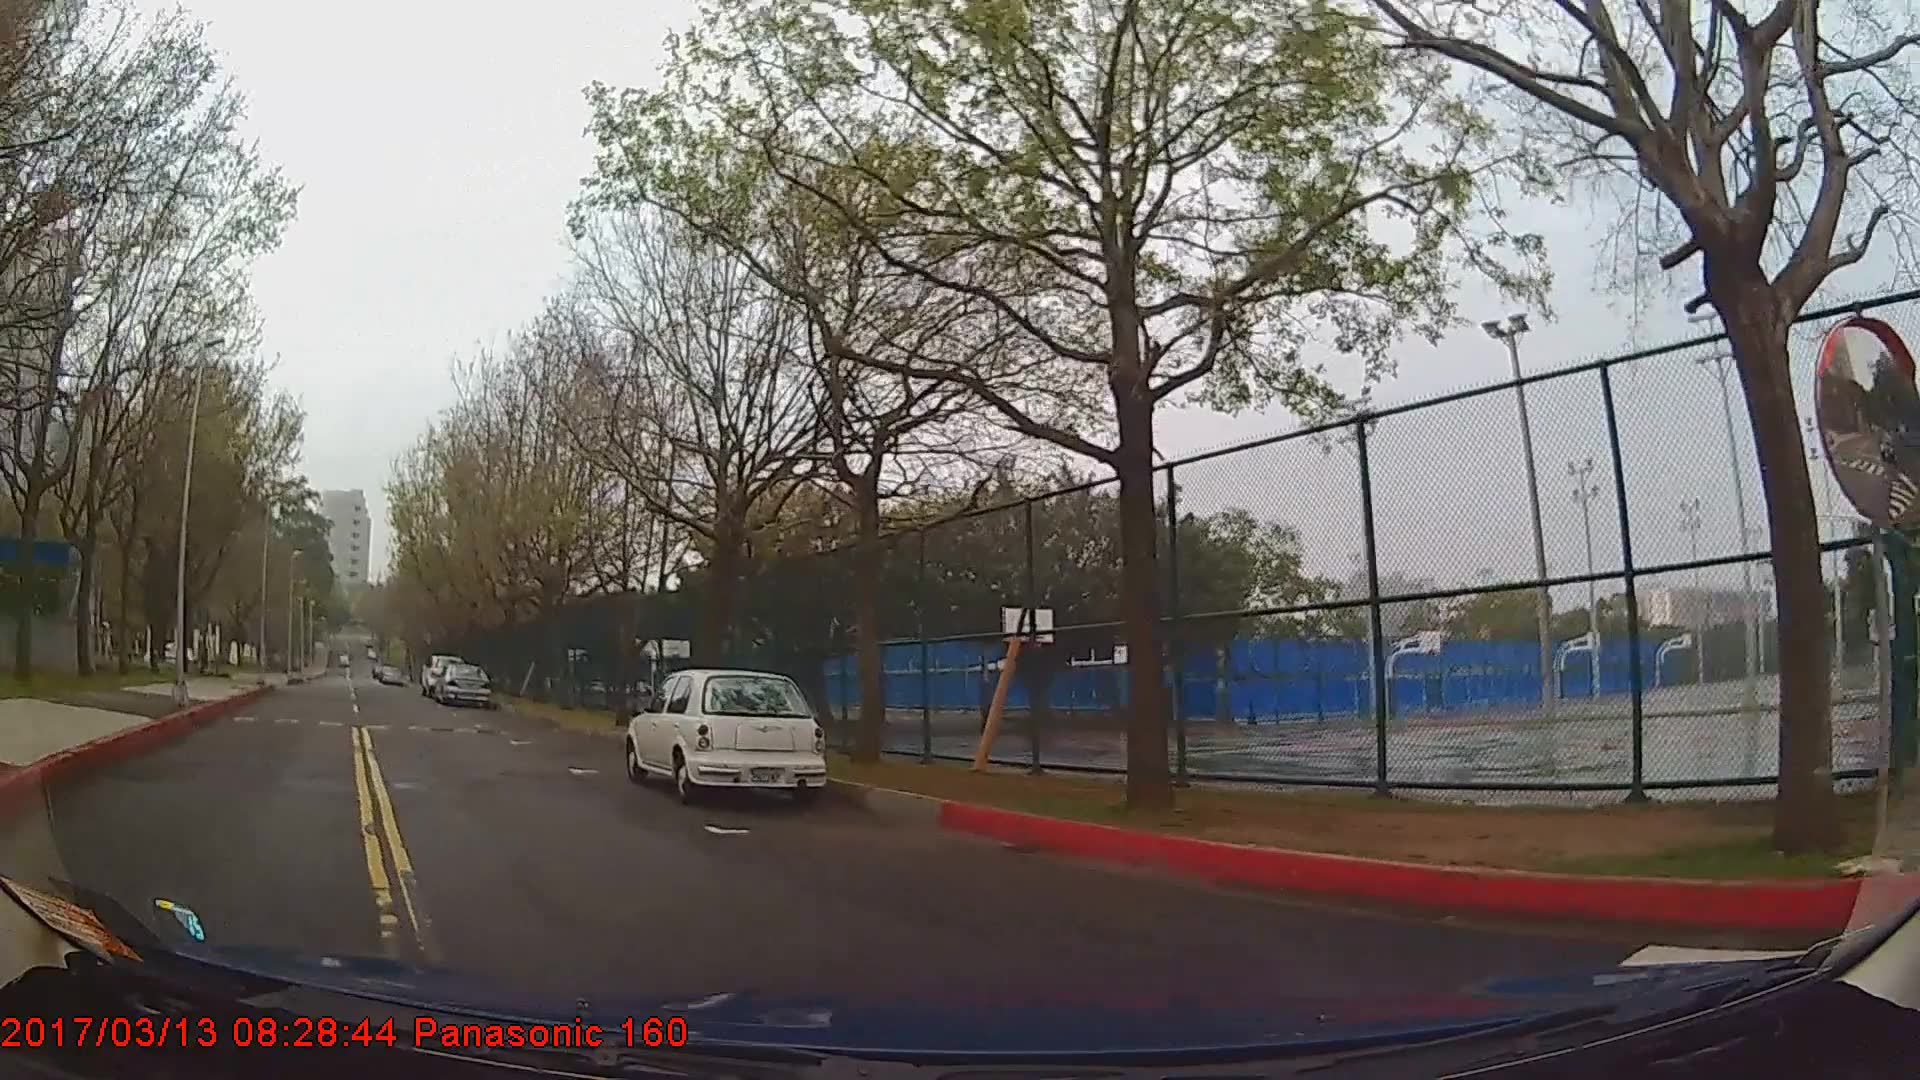vehicle: (624, 669, 825, 802), (430, 661, 491, 704)
